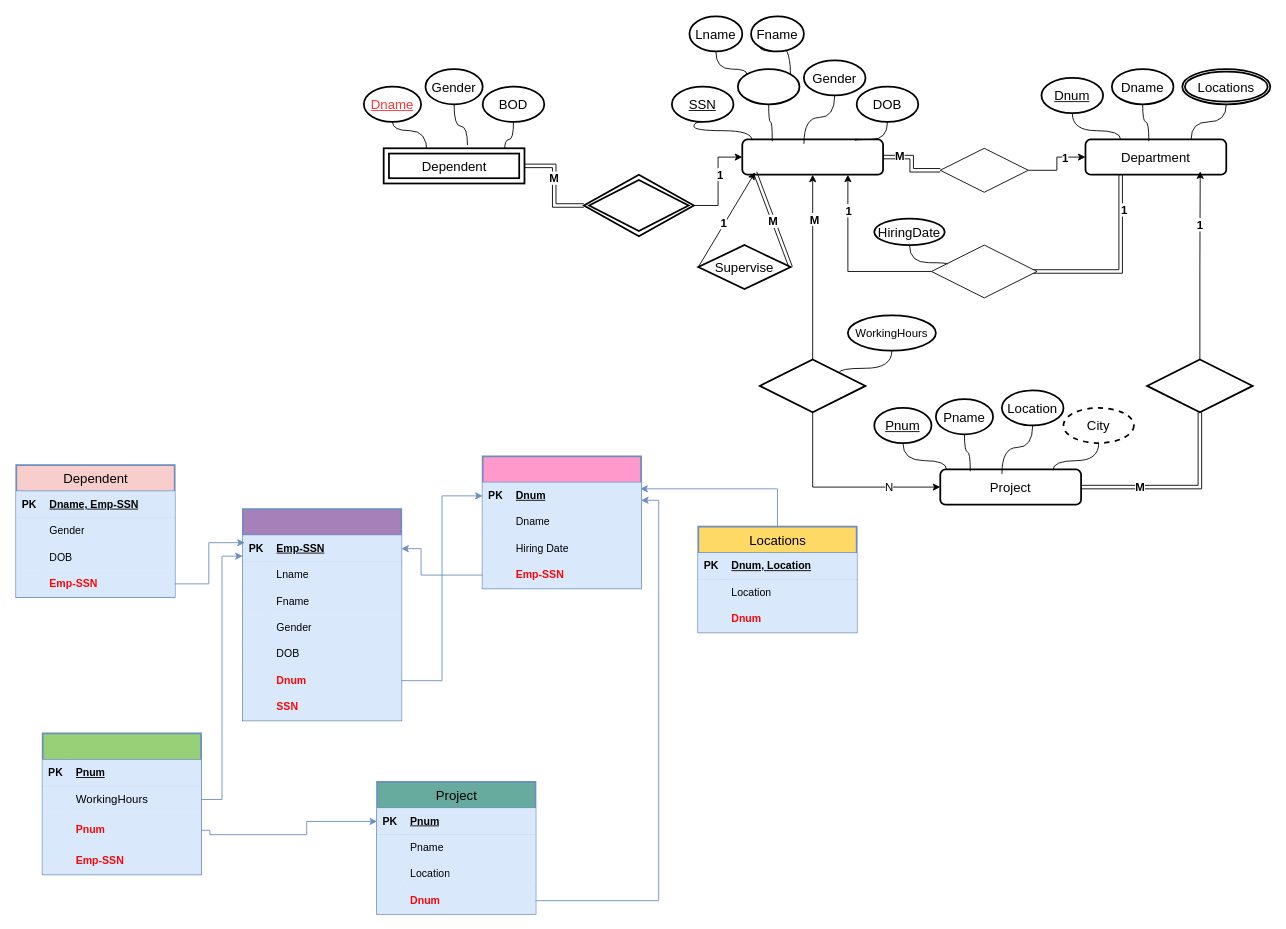
This 1286x929 diagram has some shape labels left out. The box of each missing label's shape, as (x1, y1, x2, y2) in pixels:
Departments: (481, 455, 642, 589)
Emp_Projects: (41, 732, 202, 875)
Employee: (741, 138, 884, 175)
Employees: (242, 508, 402, 721)
Have: (1146, 358, 1253, 413)
Manage: (931, 244, 1037, 298)
Name: (737, 68, 800, 105)
Works For: (583, 173, 694, 237)
Works In: (759, 358, 866, 413)
Works On: (939, 147, 1028, 192)
